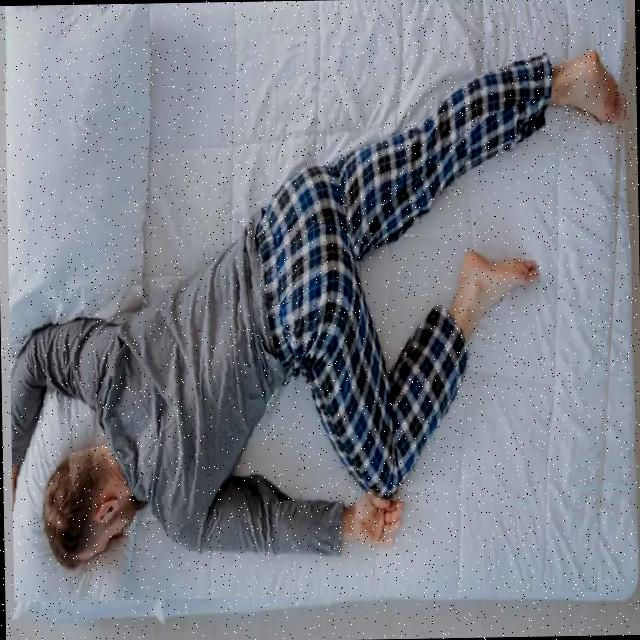people: (4, 35, 638, 601)
